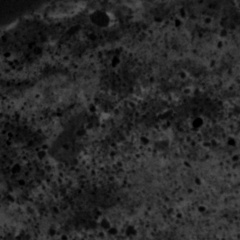Vegetation: (120, 130, 240, 240), (136, 28, 240, 98), (1, 56, 102, 121), (4, 191, 123, 238), (75, 140, 118, 182), (35, 125, 56, 193), (44, 1, 90, 19)
